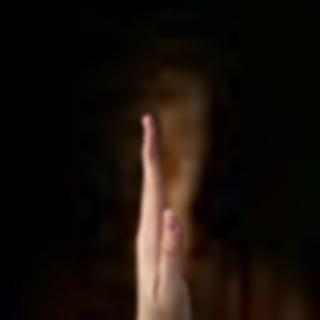Right: (119, 107, 198, 314)
